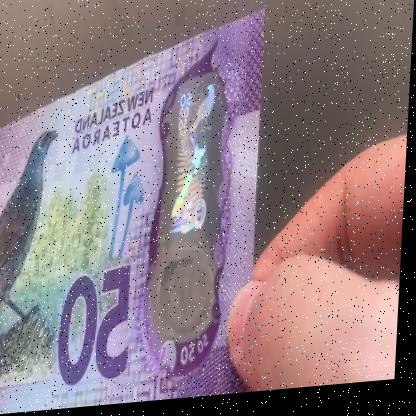50B: (164, 84, 221, 327)
